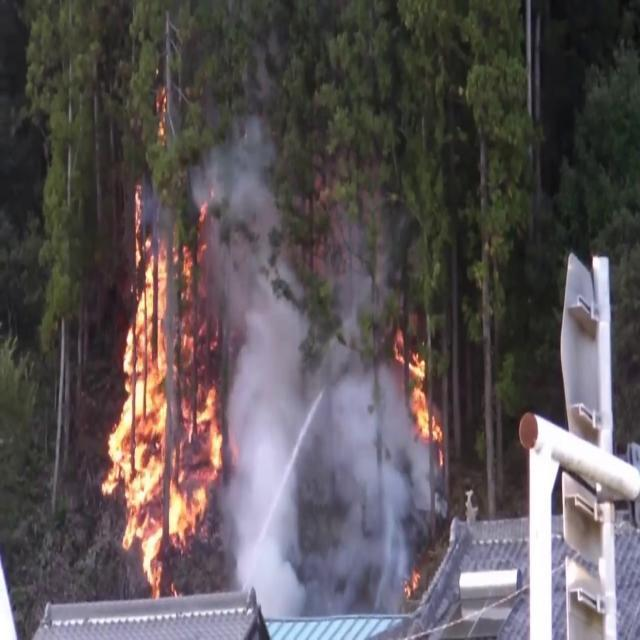Fire: (98, 198, 226, 587), (402, 338, 444, 456)
Smoke: (185, 149, 432, 624)
